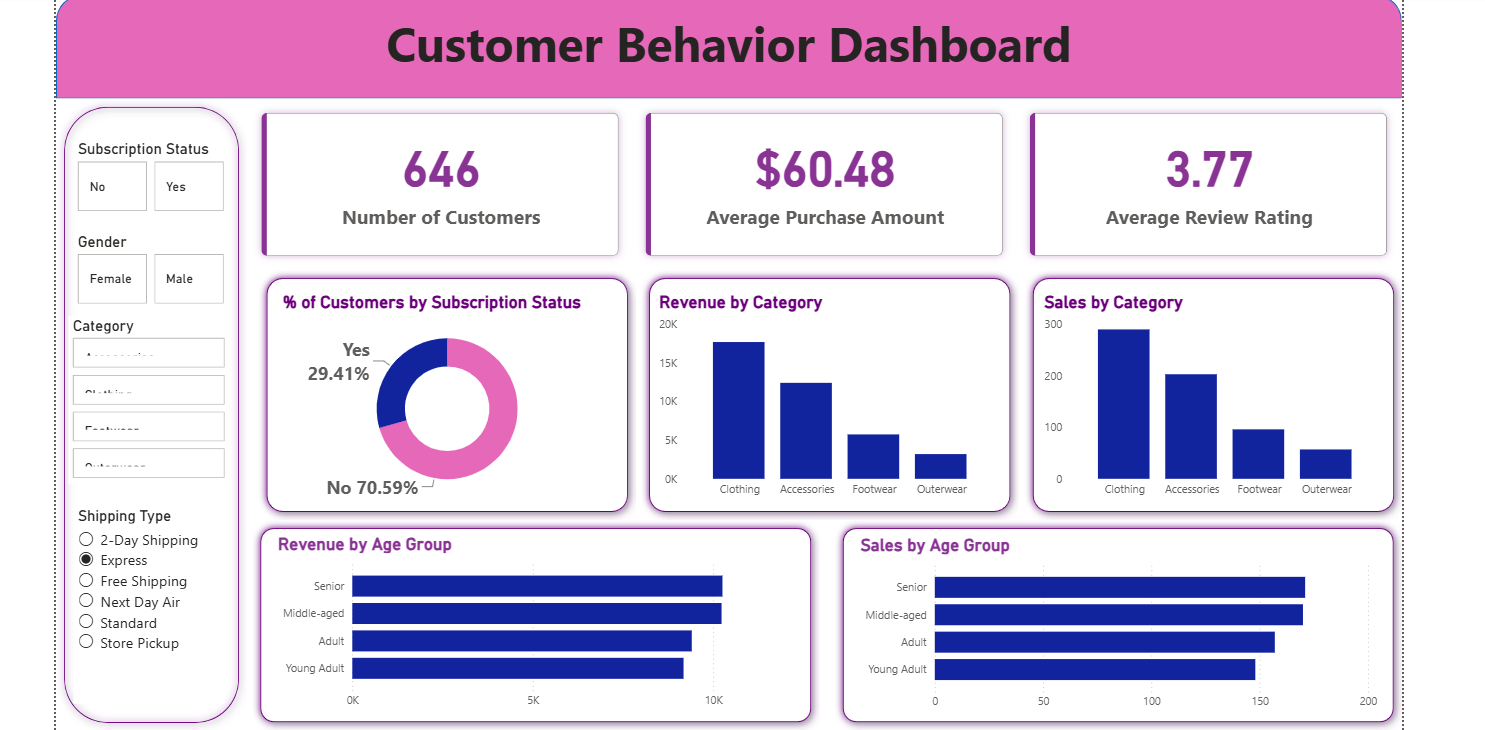

The page's visual inventory and layout, read from the dashboard file:
{"tool":"powerbi","page":{"name":"Page 1","canvas":[1500,820],"ordinal":0},"visuals":[{"type":"cardVisual","fields":{"Data":["public customer.Number of Customers","public customer.Average Purchase Amount","public customer.Average Review Rating"]},"box":[212.9,115.3,1286.5,191.6],"z":2000},{"type":"shape","box":[218.3,585.6,631.7,234.2],"z":2500,"group":"g1"},{"type":"shape","box":[0,0,1499.4,115.3],"z":3000},{"type":"textbox","box":[0,12.4,1499.4,102.9],"z":4000},{"type":"shape","box":[225.4,307,420.5,278.6],"z":5000},{"type":"donutChart","title":"% of Customers by Subscription Status","fields":{"Category":["public customer.subscription_status"],"Y":["CountNonNull(public customer.customer_id)"]},"box":[248.4,331.8,376.2,237.8],"z":6000},{"type":"shape","box":[1078.9,307,420.5,278.6],"z":7000},{"type":"shape","box":[652.1,307,420.5,278.6],"z":8000},{"type":"clusteredColumnChart","title":"Revenue by Category","fields":{"Y":["Sum(public customer.purchase_amount)"],"Category":["public customer.category"]},"box":[667.2,331.8,385.1,237.8],"z":9000},{"type":"clusteredColumnChart","title":"Sales by Category","fields":{"Y":["CountNonNull(public customer.customer_id)"],"Category":["public customer.category"]},"box":[1096.6,331.8,385.1,237.8],"z":10000},{"type":"shape","box":[0,115.3,212.9,704.5],"z":11000},{"type":"advancedSlicerVisual","fields":{"Values":["public customer.subscription_status"]},"box":[19.5,161.5,173.9,85.2],"z":12000},{"type":"advancedSlicerVisual","fields":{"Values":["public customer.gender"]},"box":[19.5,264.4,173.9,85.2],"z":13000},{"type":"advancedSlicerVisual","fields":{"Values":["public customer.category"]},"box":[14.2,358.4,179.2,186.3],"z":14000},{"type":"listSlicer","fields":{"Values":["public customer.shipping_type"]},"box":[19.5,569.6,168.6,220],"z":15000},{"type":"shape","box":[867.7,585.6,631.7,234.2],"z":16000},{"type":"clusteredBarChart","title":"Sales by Age Group","fields":{"Y":["CountNonNull(public customer.customer_id)"],"Category":["public customer.age_group"]},"box":[890.8,601.5,585.6,204.1],"z":17000},{"type":"clusteredBarChart","title":"Revenue by Age Group","fields":{"Y":["Sum(public customer.purchase_amount)"],"Category":["public customer.age_group"]},"box":[241.4,601.6,585.6,204.1],"z":17500,"group":"g1"},{"type":"group","id":"g1","title":"Group 1","box":[218.3,585.6,631.7,234.2],"z":17501}]}

Visuals, with their boxes in screenshot pixels (x1, y1, x2, y2):
cardVisual - public customer.Number of Customers x public customer.Average Purchase Amount: 261,97,1391,266
shape: 265,511,821,717
shape: 73,0,1391,97
textbox: 73,7,1391,97
shape: 272,266,641,511
"% of Customers by Subscription Status" donutChart: 292,288,623,497
shape: 1022,266,1391,511
shape: 647,266,1016,511
"Revenue by Category" clusteredColumnChart: 660,288,998,497
"Sales by Category" clusteredColumnChart: 1037,288,1376,497
shape: 73,97,261,717
advancedSlicerVisual - public customer.subscription_status: 91,138,243,213
advancedSlicerVisual - public customer.gender: 91,229,243,303
advancedSlicerVisual - public customer.category: 86,311,243,475
listSlicer - public customer.shipping_type: 91,497,239,690
shape: 836,511,1391,717
"Sales by Age Group" clusteredBarChart: 857,525,1371,704
"Revenue by Age Group" clusteredBarChart: 286,525,800,704
"Group 1" group: 265,511,821,717
